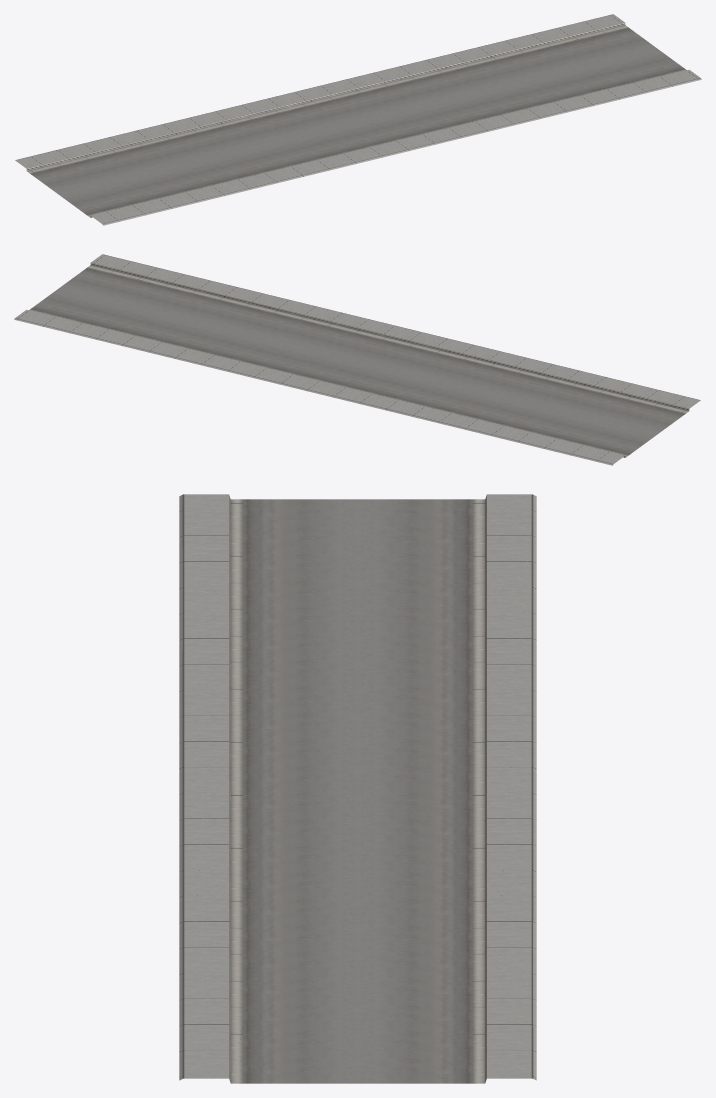
The model's file is Street_Straight_Long.FBX.
The picture shows the model from 3 angles, top to bottom: view 1: azimuth 30°, elevation 25°; view 2: azimuth 150°, elevation 25°; view 3: azimuth 270°, elevation 25°; orthographic projection. The views are drawn at different scales.
Parts seen in each view (by area): view 1: Street_Straight_Long; view 2: Street_Straight_Long; view 3: Street_Straight_Long.
Part boxes in pixels (left/top/right/bottom): Street_Straight_Long: left=15, top=14, right=701, bottom=225; Street_Straight_Long: left=14, top=254, right=700, bottom=465; Street_Straight_Long: left=179, top=494, right=536, bottom=1083.
Bounding box in the file's own units: 2000 × 7.5 × 517.
Materials: 1 (1 with a texture image).
